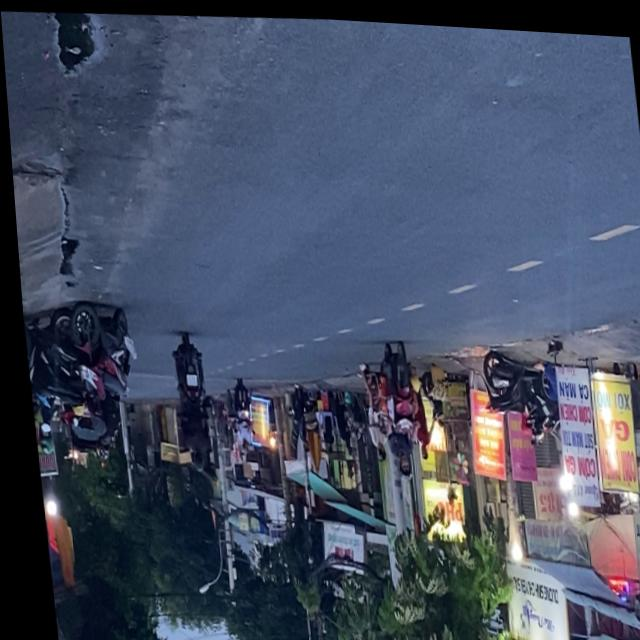helmet: (392, 452, 406, 477)
licenseplate: (371, 334, 420, 479)
